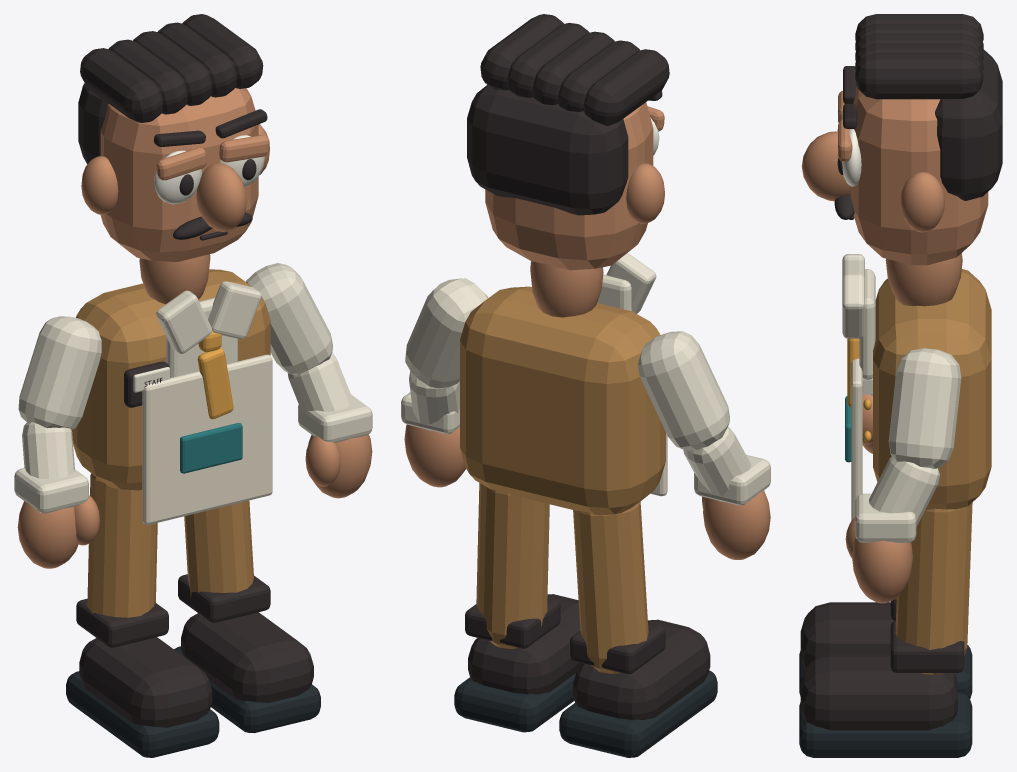
The model's file is worker_catering.glb.
3 renders of one model, left to right at view 1: azimuth 30°, elevation 25°; view 2: azimuth 150°, elevation 25°; view 3: azimuth 270°, elevation 25°, orthographic. The views are drawn at different scales.
Visible parts, largest first — view 1: worker_catering; view 2: worker_catering; view 3: worker_catering.
Boxes of the visible parts, x1,y1,x2,y2 form: worker_catering: (14,14,372,757); worker_catering: (401,14,770,757); worker_catering: (799,14,1002,757).
Bounding box in the file's own units: 1.3 × 2.35 × 0.635.
